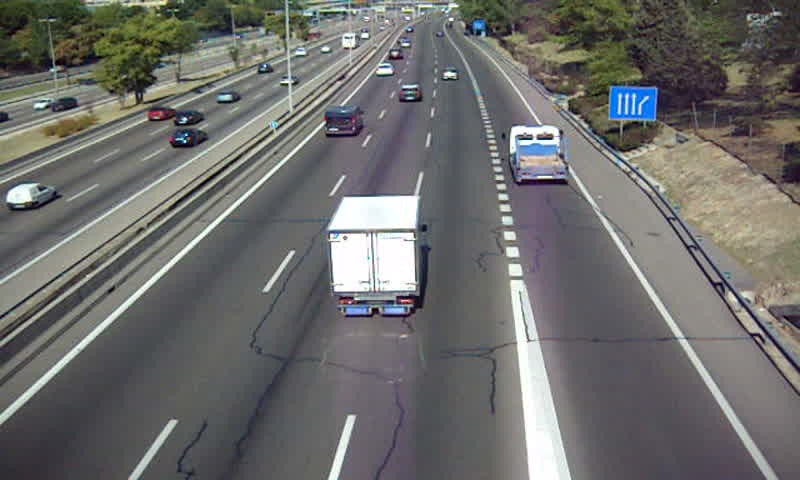car: (397, 83, 424, 106), (374, 62, 393, 79), (442, 67, 460, 81)
small-truck: (327, 195, 420, 316), (507, 124, 568, 182)
van: (321, 106, 363, 135)
